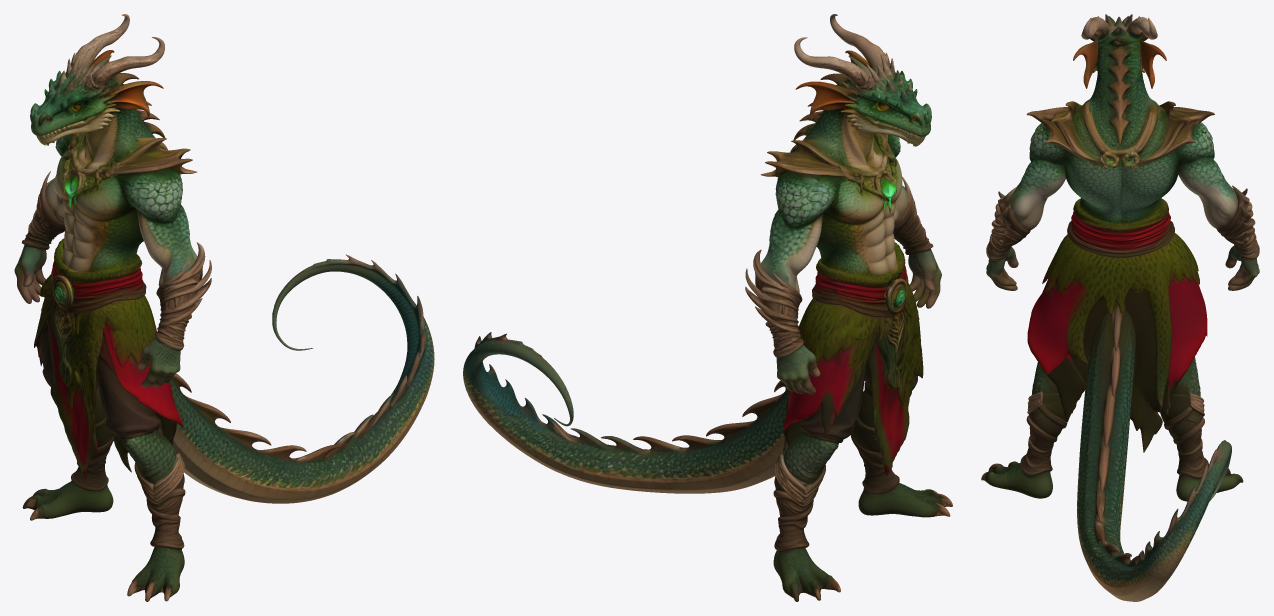
The model's file is dragonborn_druid_full_male_01.glb.
The picture shows the model from 3 angles, left to right: view 1: azimuth 30°, elevation 25°; view 2: azimuth 150°, elevation 25°; view 3: azimuth 270°, elevation 25°; orthographic projection. The views are drawn at different scales.
Parts seen in each view (by area): view 1: material; view 2: material; view 3: material.
Boxes of the visible parts, x1,y1,x2,y2 form: material: (14, 14, 434, 601); material: (463, 14, 952, 601); material: (981, 14, 1259, 601).
Size of the model in its own units: 0.8059 by 0.9234 by 0.4818.
Materials: 1 (1 with a texture image).
